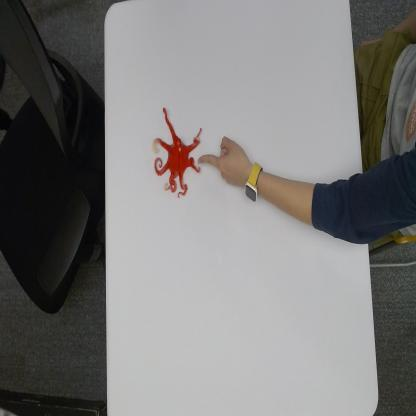Arm: (265, 154, 416, 248)
Hand: (196, 134, 244, 190)
Octopus: (152, 106, 202, 200)
